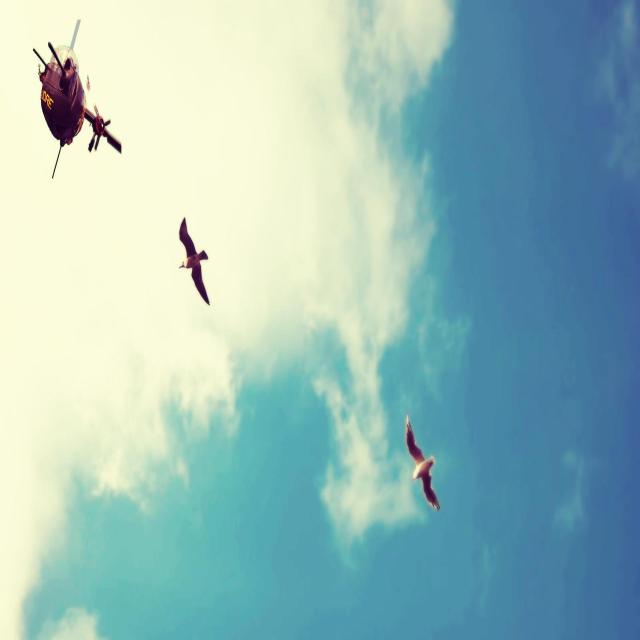airplane: (32, 18, 122, 178)
